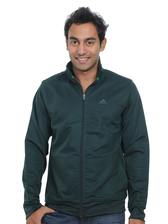clothoes: (14, 60, 151, 219)
